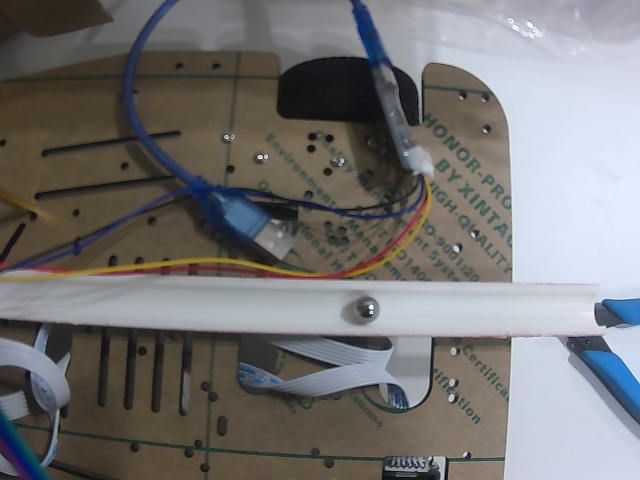steelball: (354, 296, 379, 322)
